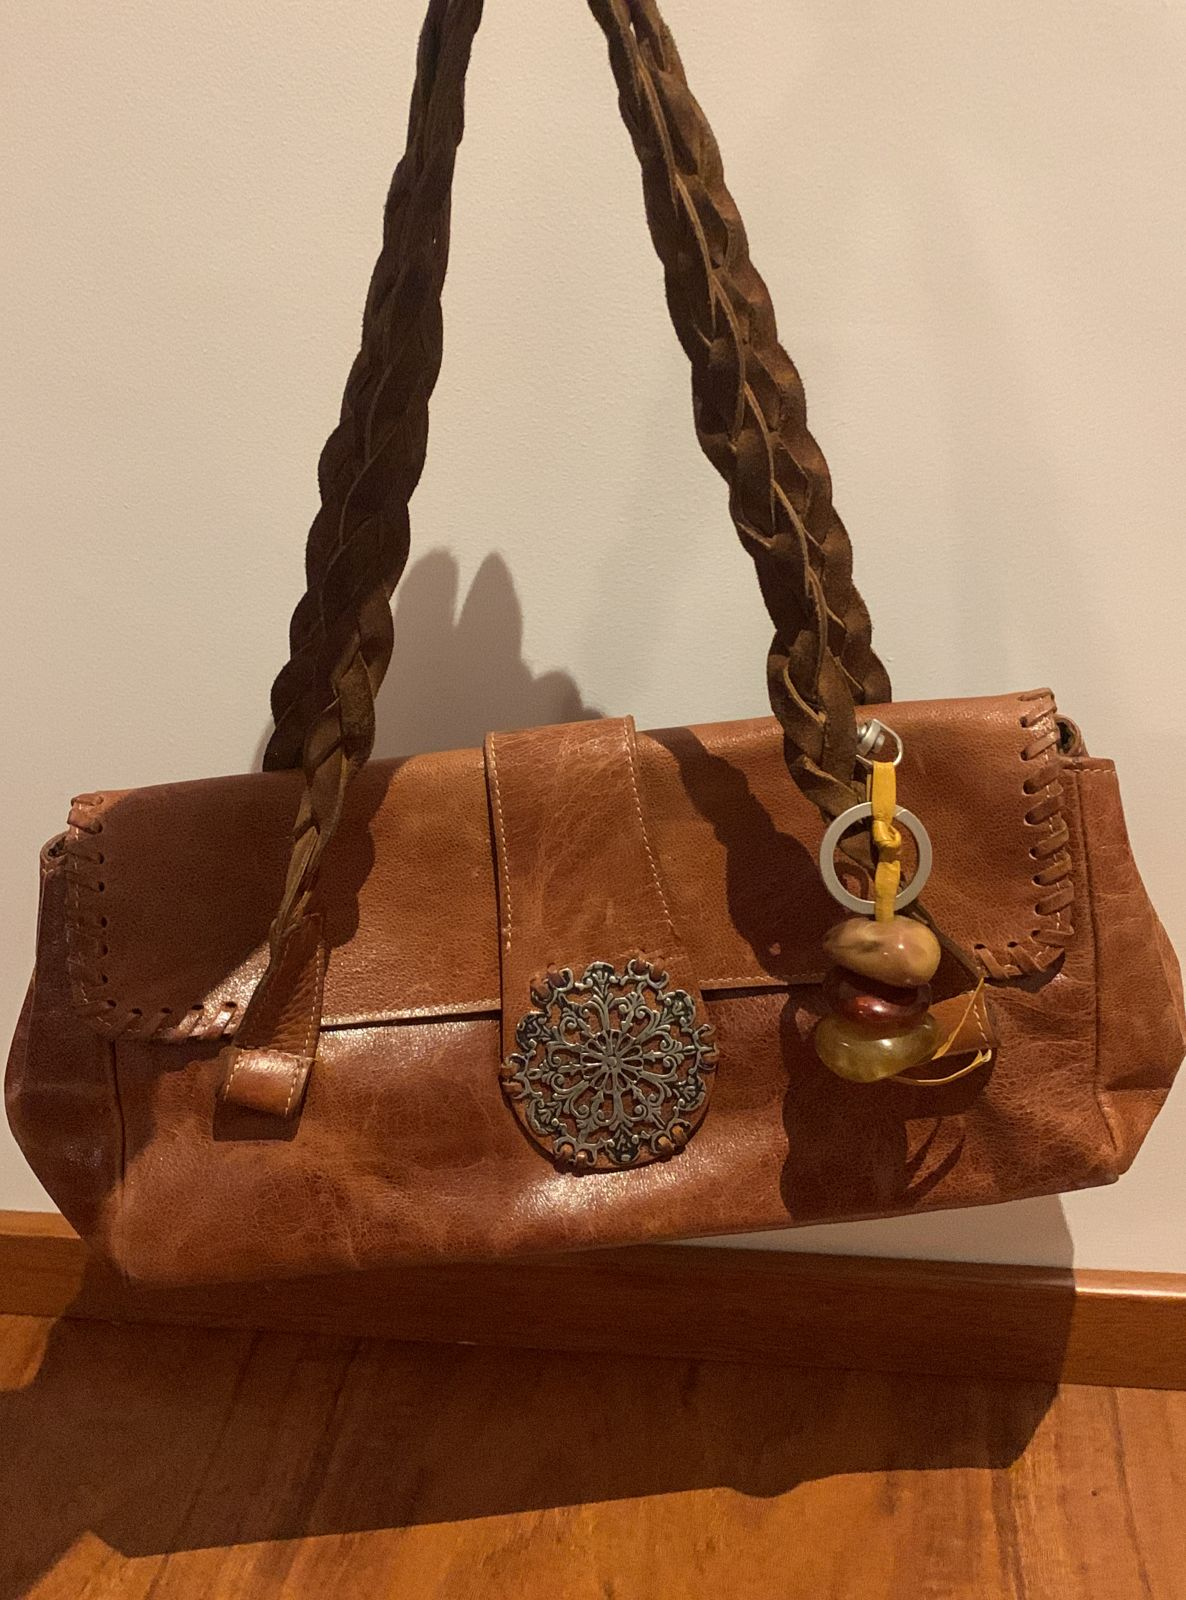cartera: (1, 1, 1186, 1310)
cuero: (74, 845, 1125, 1164)
